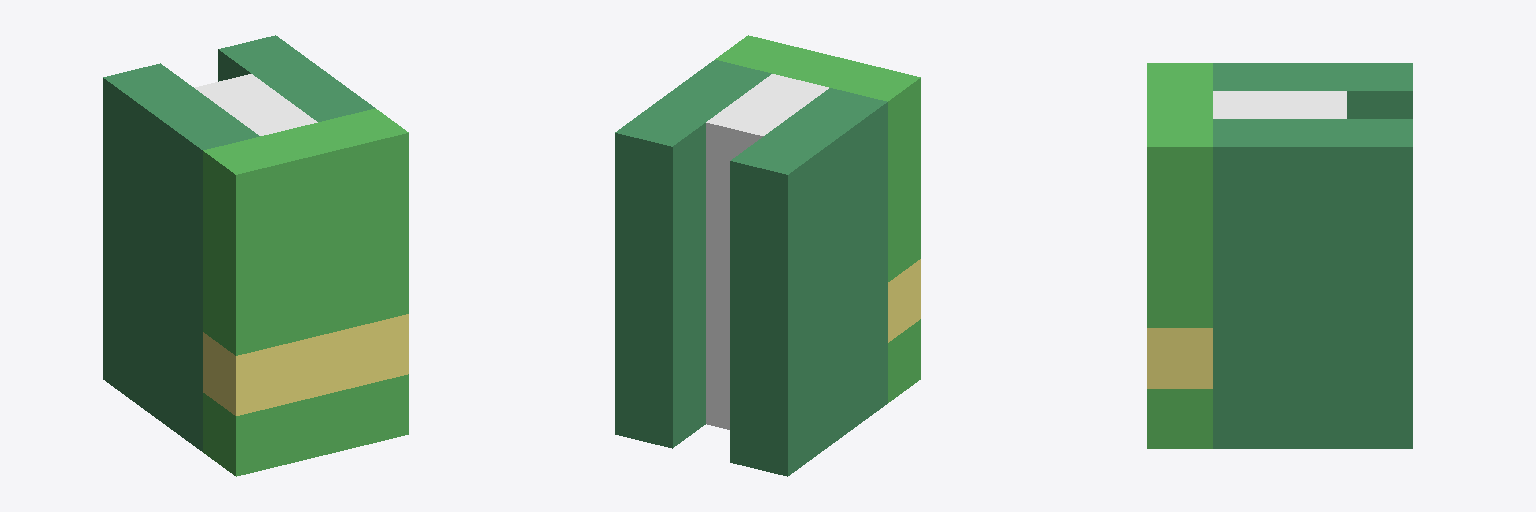
The picture shows the model from 3 angles: view 1: azimuth 30°, elevation 25°; view 2: azimuth 150°, elevation 25°; view 3: azimuth 270°, elevation 25°; orthographic projection.
Parts seen in each view (by area): view 1: object 1; view 2: object 1; view 3: object 1.
Part boxes in pixels (left/top/right/bottom): object 1: left=103, top=35, right=408, bottom=476; object 1: left=615, top=35, right=920, bottom=476; object 1: left=1147, top=63, right=1412, bottom=448.
Size of the model in its own units: 0.3 by 0.5 by 0.4.
Materials: 1 (1 with a texture image).